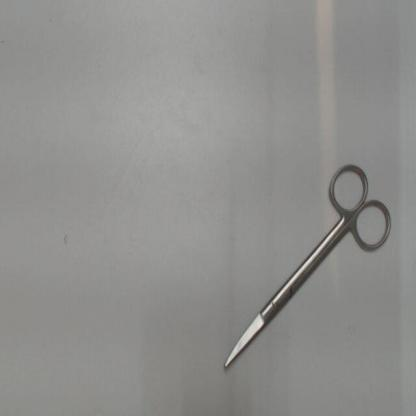Curved Mayo Scissors: (221, 159, 397, 375)
